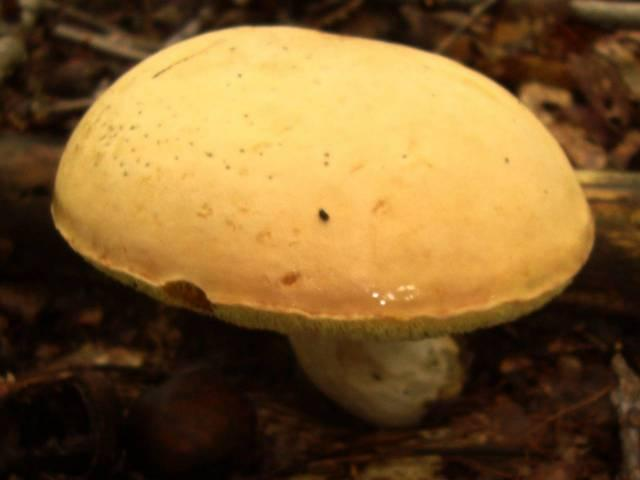edible_mushroom: (49, 22, 596, 427)
